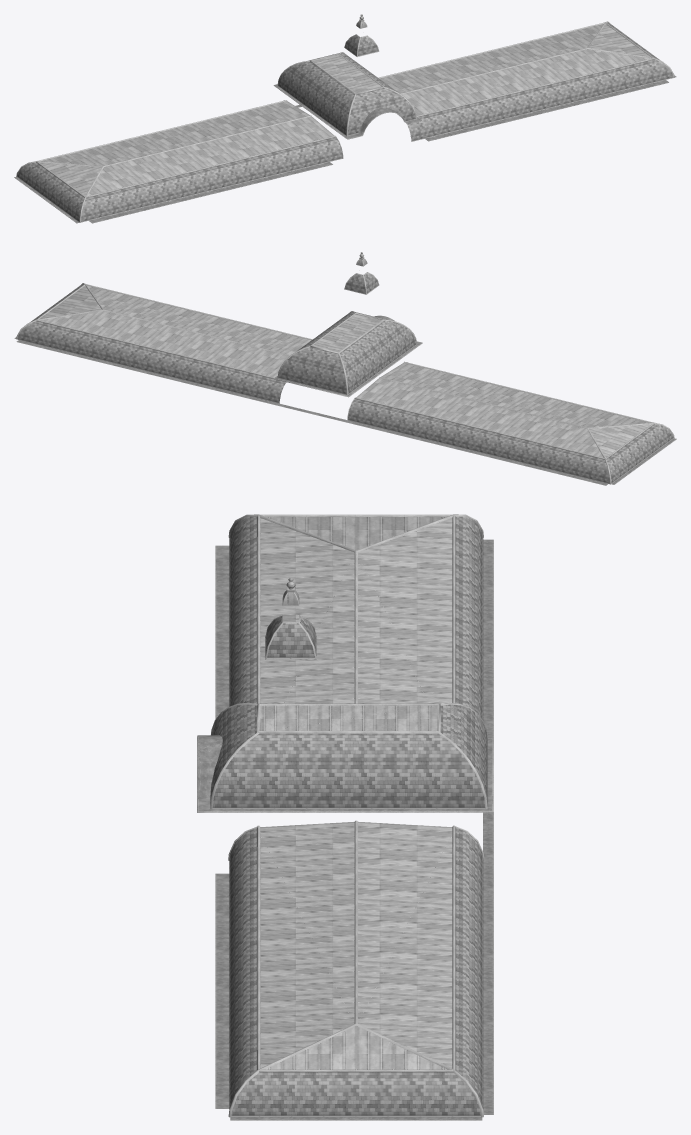
Rendered from t1_b_south_station_roof.glb.
3 renders of one model, top to bottom at view 1: azimuth 30°, elevation 25°; view 2: azimuth 150°, elevation 25°; view 3: azimuth 270°, elevation 25°, orthographic. The views are drawn at different scales.
Visible parts, largest first — view 1: south_station_roof; view 2: south_station_roof; view 3: south_station_roof.
Part boxes in pixels (box(x1,y1,x2,y2)): south_station_roof: box(14, 14, 676, 223); south_station_roof: box(14, 252, 676, 485); south_station_roof: box(197, 514, 493, 1120).
Bounding box in the file's own units: 86.81 × 17.26 × 18.58.
Materials: 3 (3 with a texture image).
